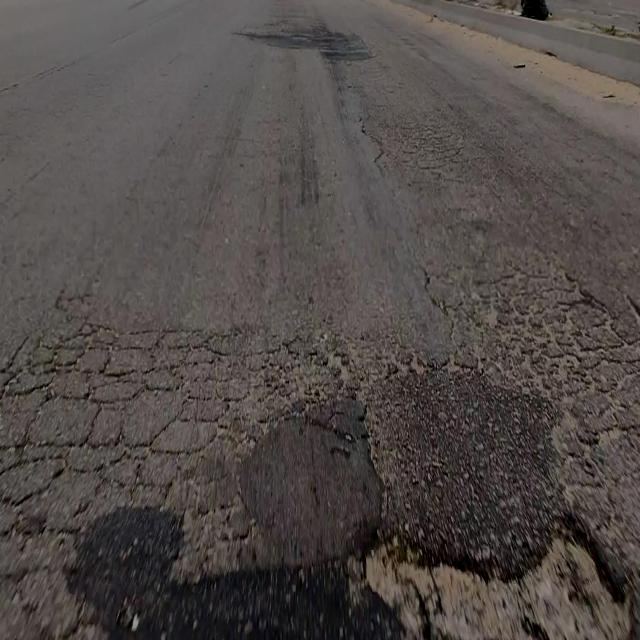Potholes: (357, 507, 639, 640)
